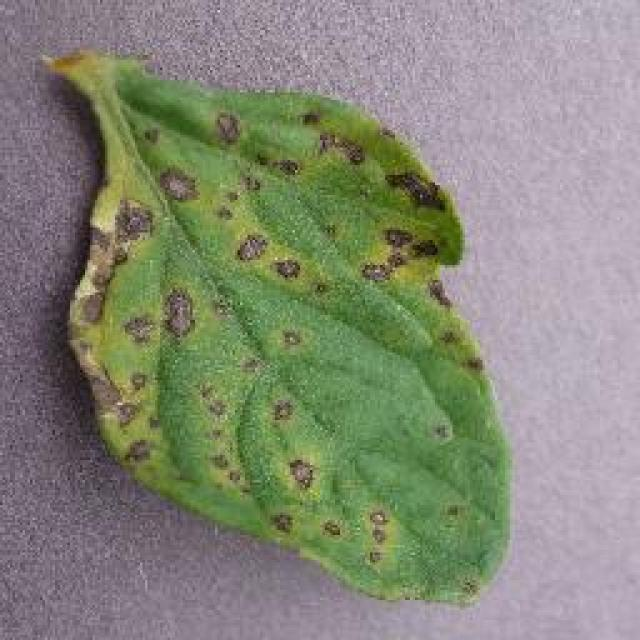Tomato___Septoria_leaf_spot: (40, 52, 508, 600)
